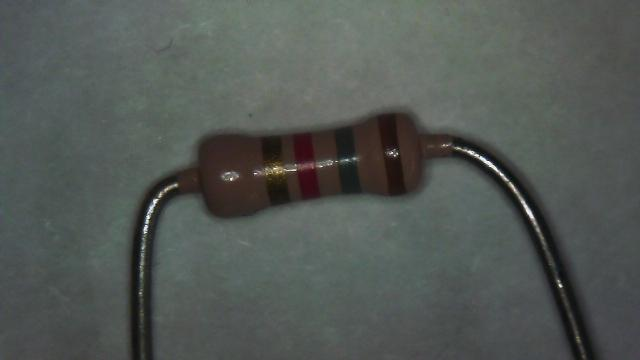brown: (378, 114, 406, 194)
gold: (262, 136, 290, 206)
grey: (335, 128, 360, 194)
red: (295, 133, 320, 198)
resistor: (178, 98, 452, 224)
